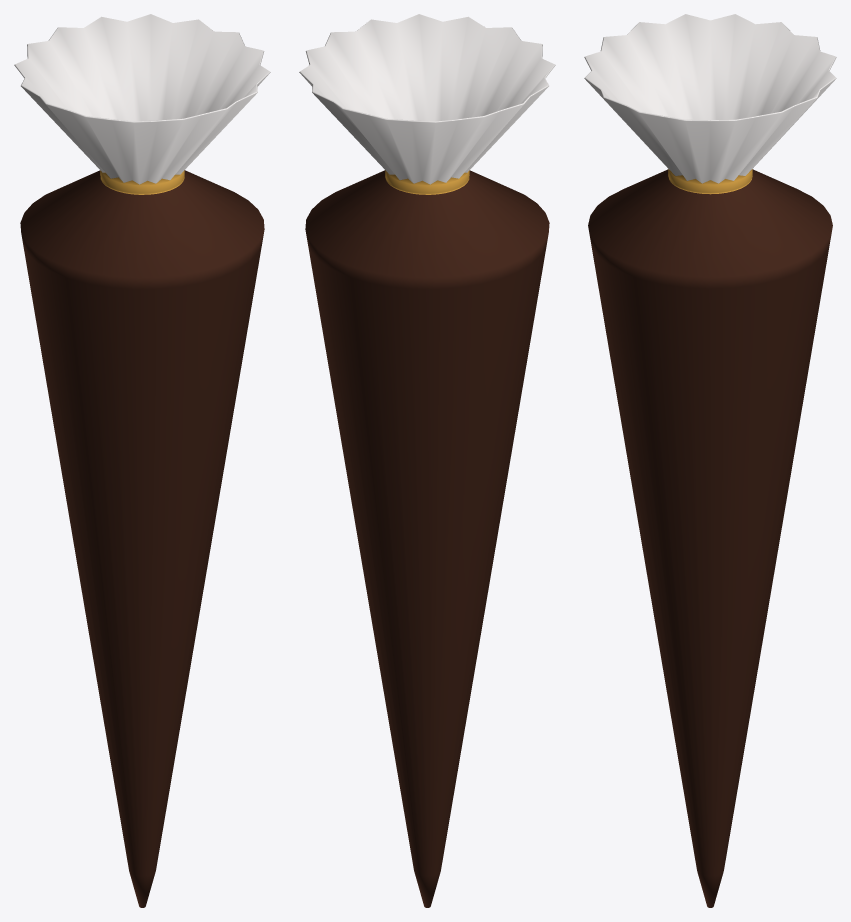
Rendered from piping bag cokelat.fbx.
3 views of the same model, side by side, from view 1: azimuth 30°, elevation 25°; view 2: azimuth 150°, elevation 25°; view 3: azimuth 270°, elevation 25° (orthographic).
Visible parts, largest first — view 1: Cylinder; view 2: Cylinder; view 3: Cylinder.
Boxes of the visible parts, x1=… form: Cylinder: x1=14, y1=14, x2=270, y2=907; Cylinder: x1=299, y1=14, x2=555, y2=907; Cylinder: x1=584, y1=14, x2=836, y2=907.
Size of the model in its own units: 114 by 417 by 114.
1 material, 1 textured.
